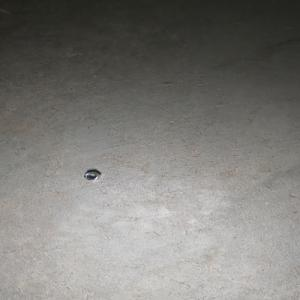Nut: (83, 170, 101, 181)
